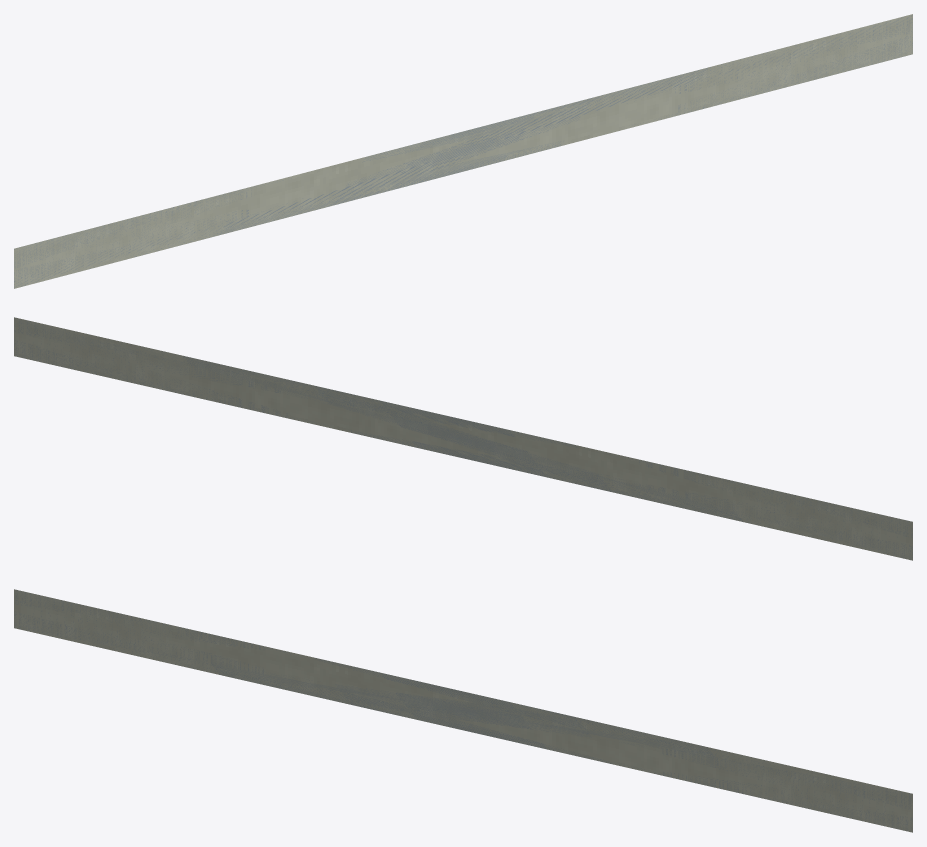
File: 人民英雄纪念碑112.dae
3 views of the same model, one above another, from view 1: azimuth 30°, elevation 25°; view 2: azimuth 150°, elevation 25°; view 3: azimuth 330°, elevation 25° (orthographic). The views are drawn at different scales.
Visible parts, largest first — view 1: SketchUp; view 2: SketchUp; view 3: SketchUp.
Part boxes in pixels (x1,y1,x2,y2): SketchUp: (14,14,912,288); SketchUp: (14,317,912,560); SketchUp: (14,589,912,832).
Size of the model in its own units: 592 by 17.58 by 24.92.
